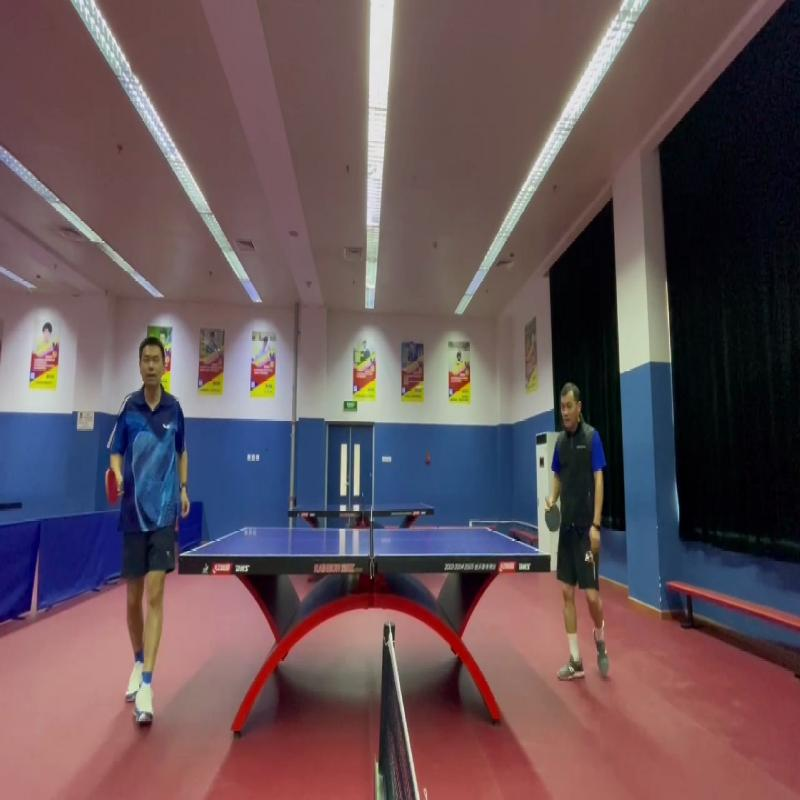bats: (99, 462, 131, 512)
